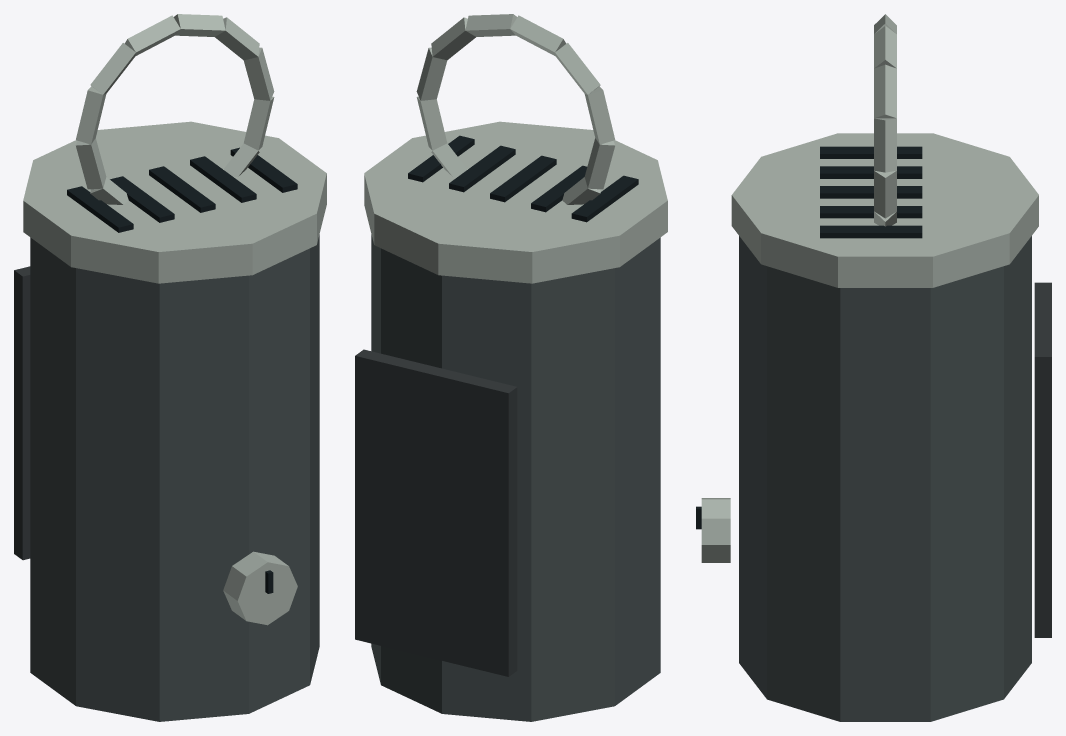
Rendered from blender_incense_3.glb.
3 renders of one model, left to right at view 1: azimuth 30°, elevation 25°; view 2: azimuth 150°, elevation 25°; view 3: azimuth 270°, elevation 25°, orthographic.
Visible parts, largest first — view 1: blender_incense_3; view 2: blender_incense_3; view 3: blender_incense_3.
Boxes of the visible parts, x1,y1,x2,y2 form: blender_incense_3: (14,14,326,721); blender_incense_3: (355,14,667,721); blender_incense_3: (696,14,1051,721).
Size of the model in its own units: 0.1019 by 0.2456 by 0.124.
1 material, 1 textured.
